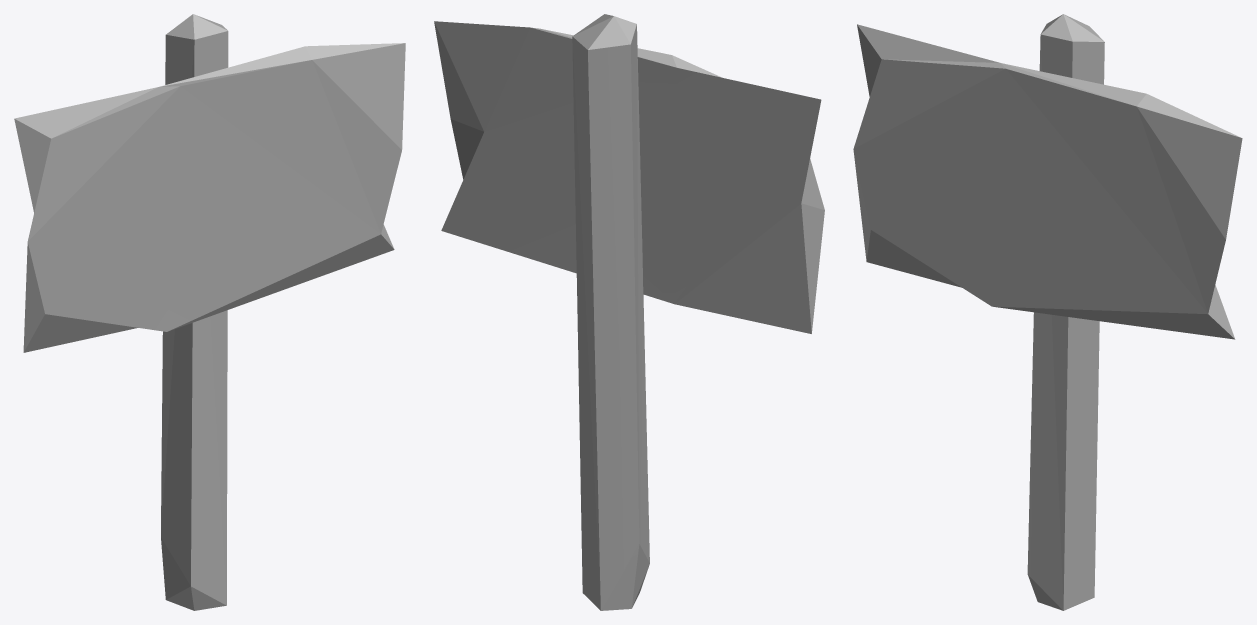
File: Pointer_01.fbx
3 views of the same model, side by side, from view 1: azimuth 30°, elevation 25°; view 2: azimuth 150°, elevation 25°; view 3: azimuth 330°, elevation 25° (orthographic).
Parts seen in each view (by area): view 1: Pointer_01; view 2: Pointer_01; view 3: Pointer_01.
Part boxes in pixels (x1,y1,x2,y2): Pointer_01: [14, 14, 405, 610]; Pointer_01: [434, 14, 824, 610]; Pointer_01: [853, 14, 1242, 610].
Bounding box in the file's own units: 1.07 × 1.54 × 0.1931.
